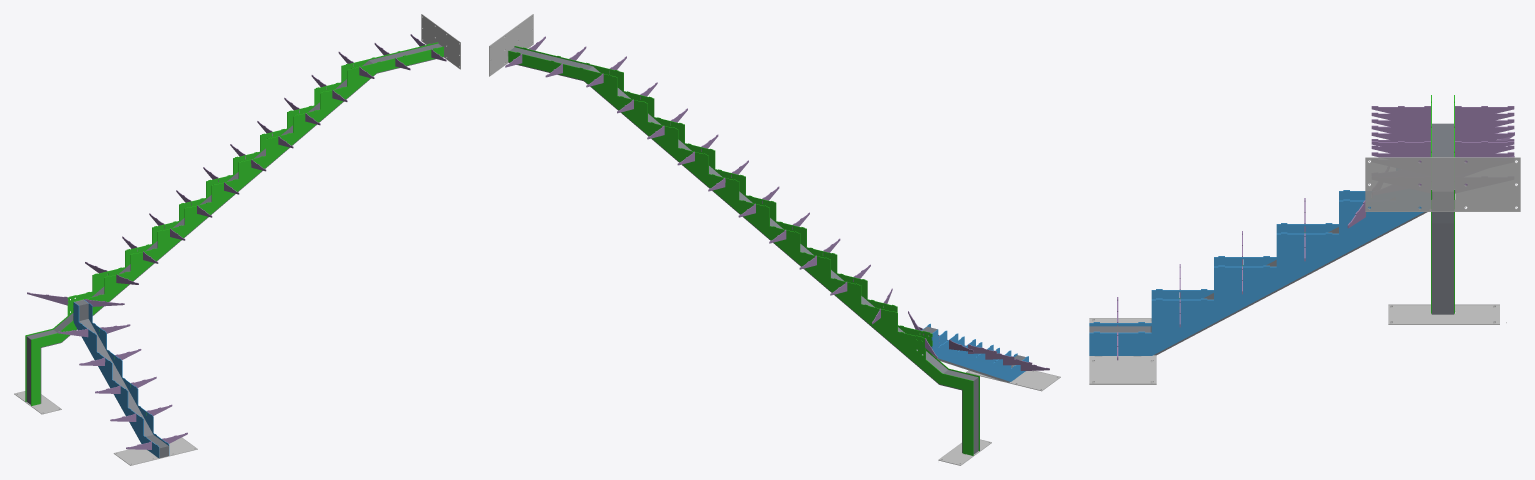
The model's file is stadia1.glb.
3 views of the same model, side by side, from view 1: azimuth 30°, elevation 25°; view 2: azimuth 150°, elevation 25°; view 3: azimuth 270°, elevation 25° (orthographic). The views are drawn at different scales.
Parts seen in each view (by area): view 1: Косоур_БП, Косоур_БЛ.001, Труба_100_100_Б, Косоур_МЛ, Труба_100_100_М, Опора_верх.003, Косоур_МП, Опора_низ; view 2: Косоур_БЛ.001, Косоур_БП, Труба_100_100_Б, Косоур_МЛ, Опора_верх.003, Опора_низ; view 3: Косоур_МП, Опора_верх.003, Труба_100_100_Б, Косоур_МЛ, Опора_низ, Опора_сер.004, Труба_100_100_М, instance_3, instance_4, instance_2, instance_1.
Part boxes in pixels (x1=…): Косоур_БП: x1=31, y1=46, x2=443, y2=405; Косоур_БЛ.001: x1=25, y1=42, x2=438, y2=401; Труба_100_100_Б: x1=26, y1=43, x2=443, y2=404; Косоур_МЛ: x1=73, y1=302, x2=159, y2=457; Труба_100_100_М: x1=74, y1=300, x2=168, y2=458; Опора_верх.003: x1=421, y1=14, x2=460, y2=69; Косоур_МП: x1=84, y1=300, x2=169, y2=455; Опора_низ: x1=113, y1=437, x2=197, y2=465; Косоур_БЛ.001: x1=508, y1=50, x2=973, y2=455; Косоур_БП: x1=514, y1=46, x2=979, y2=451; Труба_100_100_Б: x1=508, y1=47, x2=978, y2=454; Косоур_МЛ: x1=931, y1=329, x2=1028, y2=381; Опора_верх.003: x1=489, y1=14, x2=533, y2=76; Опора_низ: x1=966, y1=370, x2=1060, y2=391; Косоур_МП: x1=1089, y1=199, x2=1423, y2=355; Опора_верх.003: x1=1365, y1=157, x2=1520, y2=211; Труба_100_100_Б: x1=1432, y1=123, x2=1453, y2=314; Косоур_МЛ: x1=1089, y1=190, x2=1365, y2=326; Опора_низ: x1=1089, y1=318, x2=1156, y2=384; Опора_сер.004: x1=1388, y1=304, x2=1499, y2=324; Труба_100_100_М: x1=1089, y1=212, x2=1427, y2=355; instance_3: x1=1455, y1=141, x2=1514, y2=157; instance_4: x1=1371, y1=141, x2=1430, y2=157; instance_2: x1=1455, y1=106, x2=1514, y2=123; instance_1: x1=1371, y1=106, x2=1430, y2=123.
Bounding box in the file's own units: 4.36 × 2.77 × 1.97.
